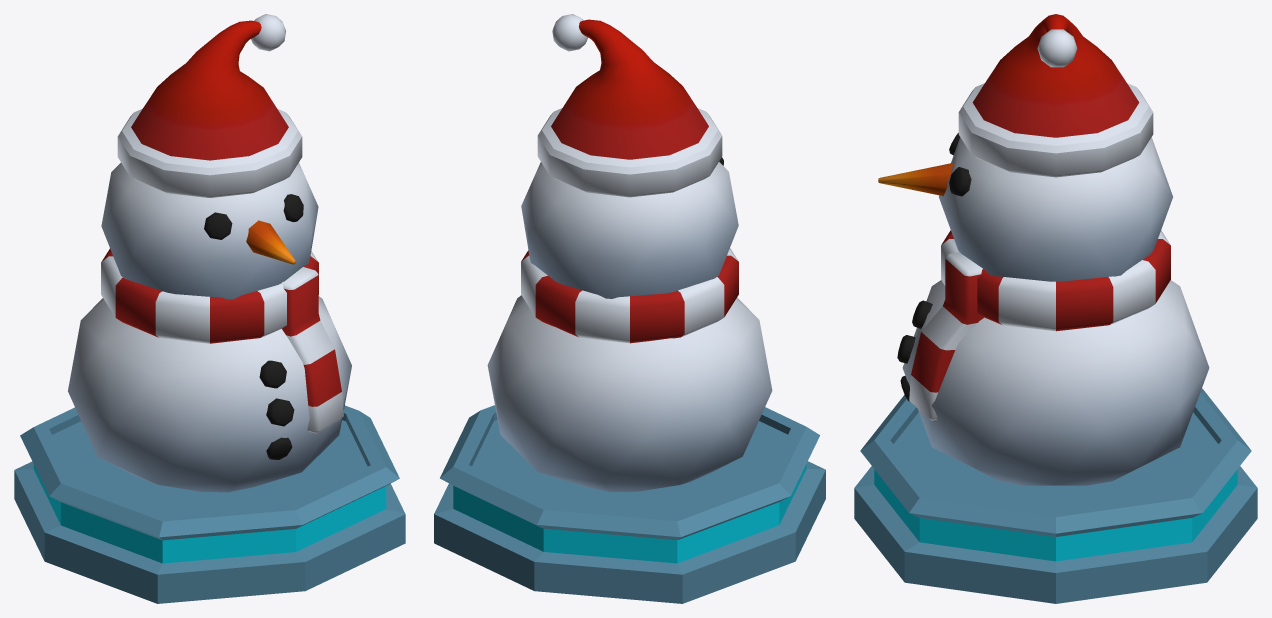
File: Snowman.fbx
The picture shows the model from 3 angles, left to right: view 1: azimuth 30°, elevation 25°; view 2: azimuth 150°, elevation 25°; view 3: azimuth 270°, elevation 25°; orthographic projection. The views are drawn at different scales.
Visible parts, largest first — view 1: Snowman, Snowman_stand; view 2: Snowman, Snowman_stand; view 3: Snowman, Snowman_stand.
Part boxes in pixels (box(x1,y1,x2,y2)): Snowman: box(68, 14, 351, 492); Snowman_stand: box(14, 405, 405, 603); Snowman: box(487, 14, 772, 491); Snowman_stand: box(434, 405, 825, 603); Snowman: box(878, 14, 1209, 485); Snowman_stand: box(854, 388, 1257, 603).
Size of the model in its own units: 95.38 by 135 by 95.38.
